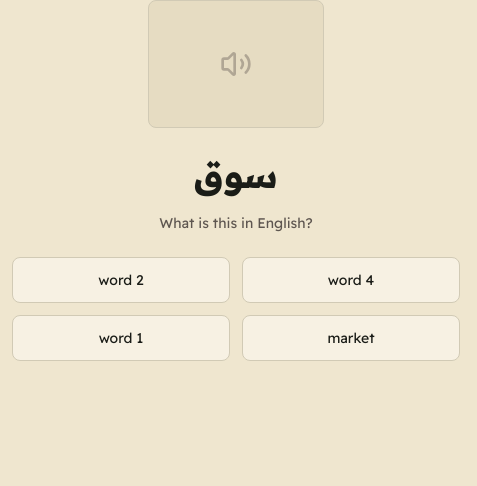
Scenario: multiple choice › reports a wrong answer with what was chosen
Click the button "word 2".
click(121, 280)  # box [12,257,230,303]
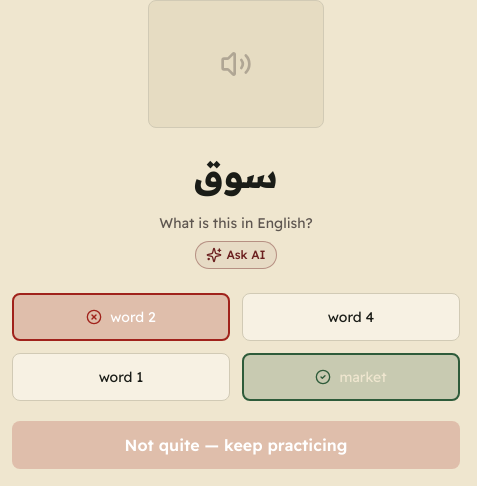
Expected: the text "Not quite — keep practicing" is shown, [12,421,460,469]
